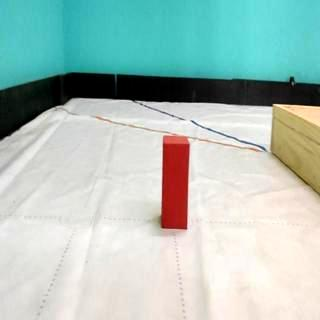redbox: (161, 136, 189, 230)
